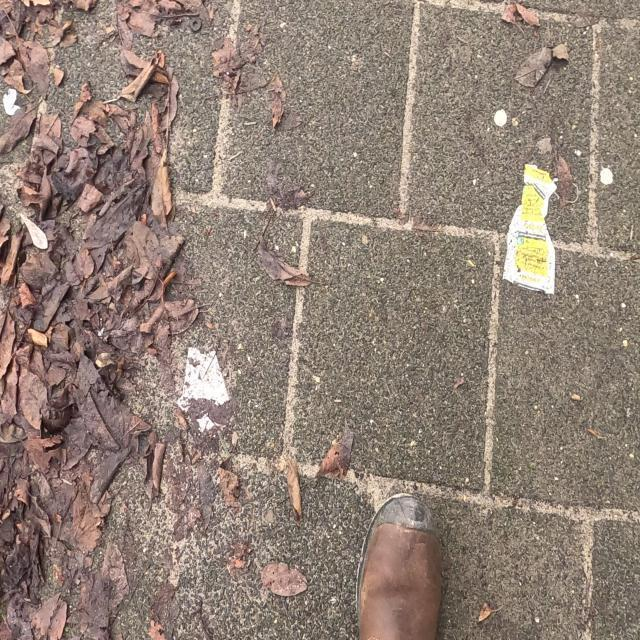Paper: (176, 336, 237, 484), (500, 156, 558, 302)
